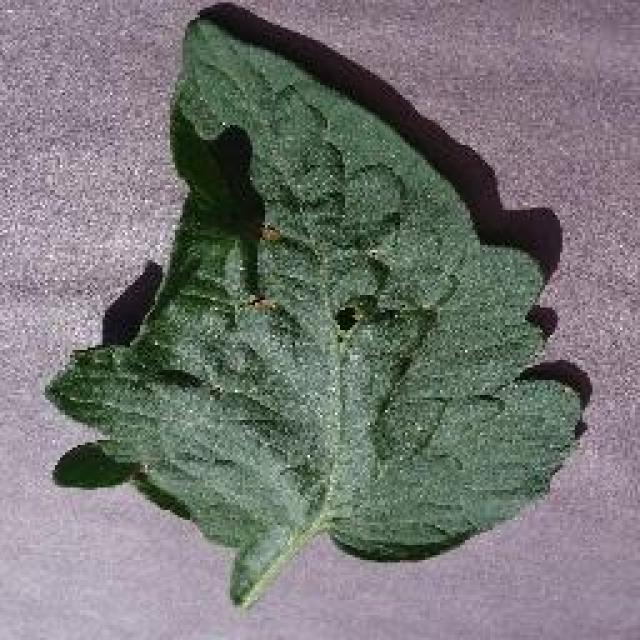Tomato___Target_Spot: (45, 18, 585, 605)
